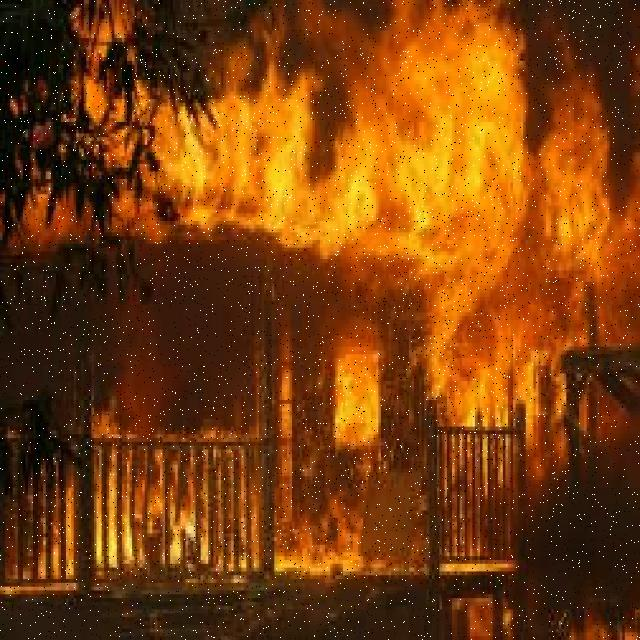fire: (153, 64, 640, 282), (348, 309, 434, 475)
